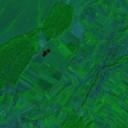alloviz: (40, 47, 52, 58)
